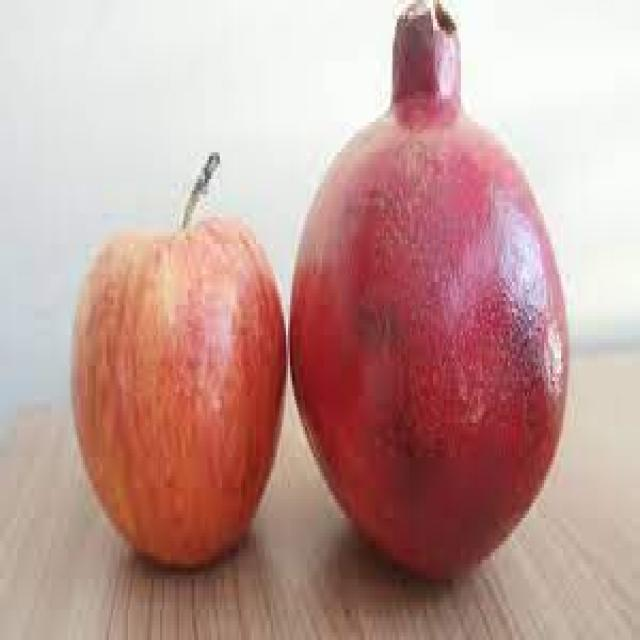apple: (66, 149, 290, 579)
pomegranate: (290, 4, 572, 586)
